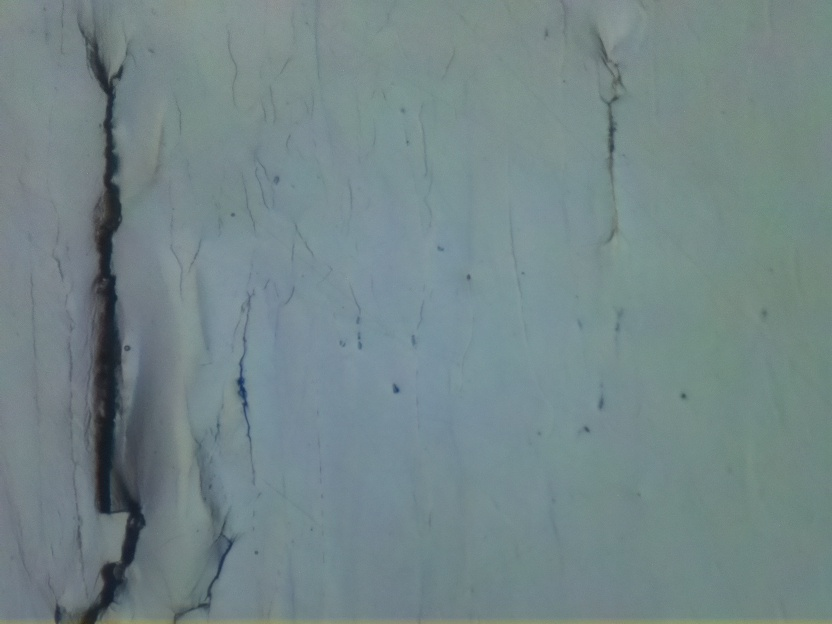crack: (52, 20, 143, 624), (171, 522, 243, 624), (592, 31, 621, 228), (233, 300, 262, 478)
